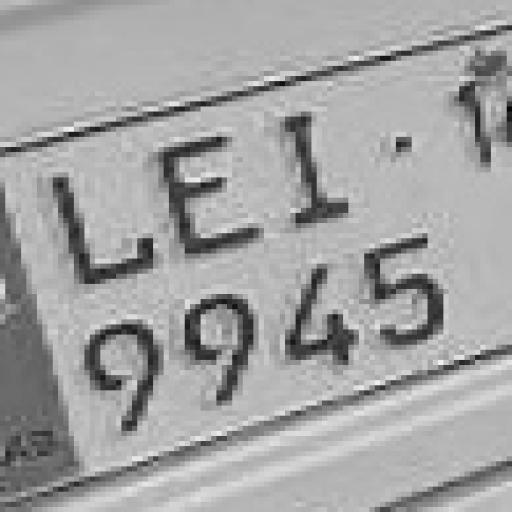4: (274, 267, 356, 374)
5: (361, 246, 448, 347)
9: (78, 302, 166, 441), (175, 291, 269, 404)
E: (148, 132, 266, 252)
I: (281, 101, 363, 238)
L: (40, 172, 154, 274)
